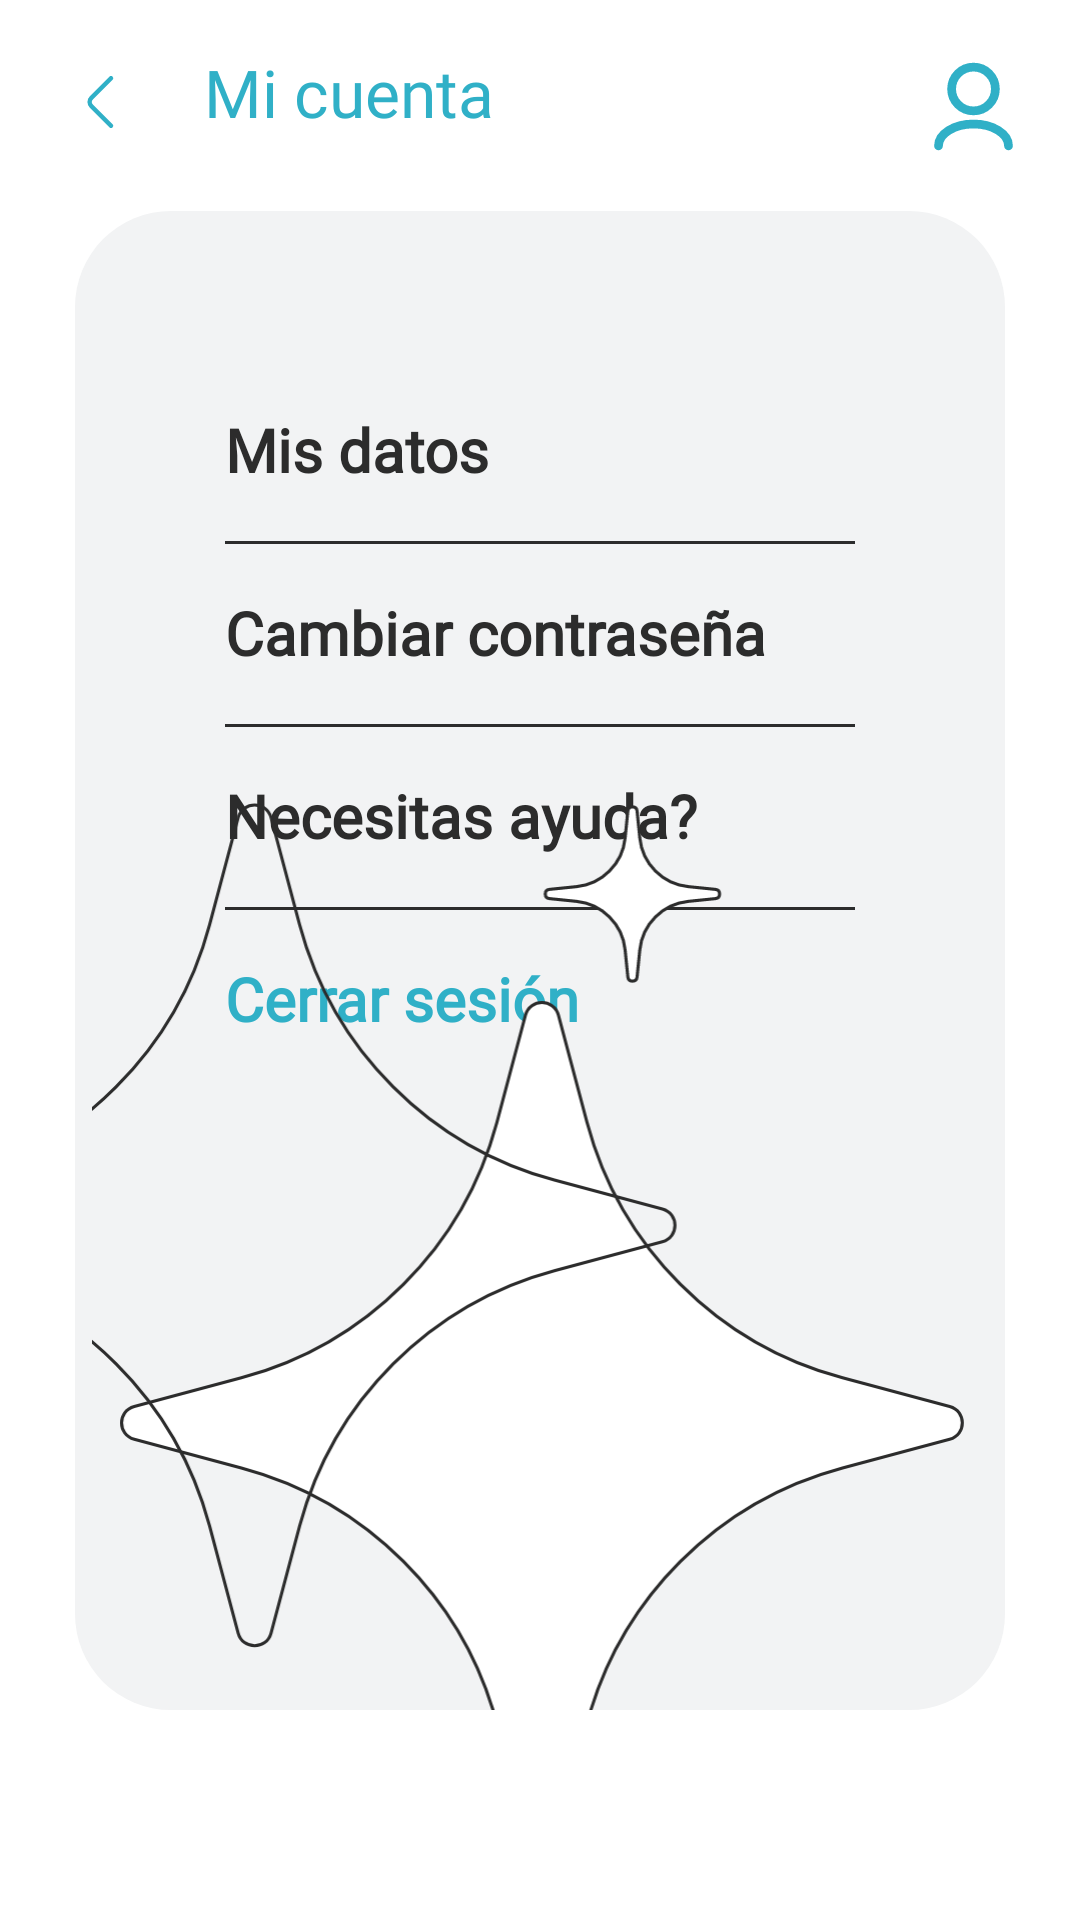

Screen size 1080px×1920px. Icon name, then its box in pixels as (x1, y1, x2, y2):
Botón para regresar: (87, 76, 114, 128)
userimg: (934, 62, 1013, 151)
